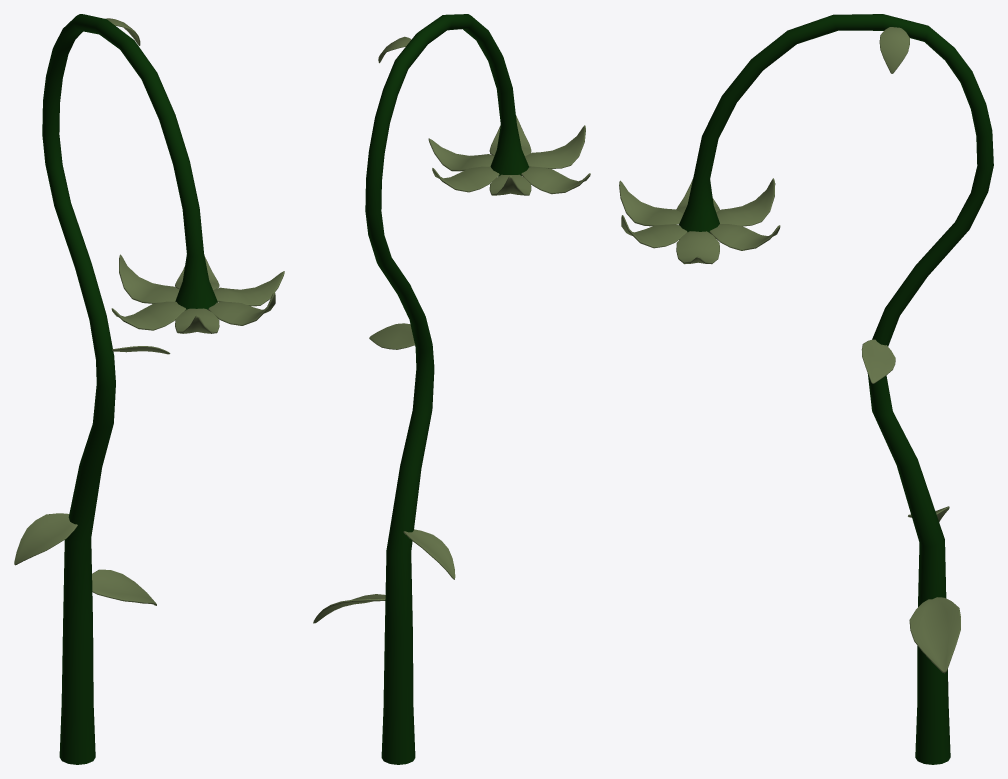
File: ModularFlower_TigeLuminescent00.fbx
The picture shows the model from 3 angles, left to right: view 1: azimuth 30°, elevation 25°; view 2: azimuth 150°, elevation 25°; view 3: azimuth 270°, elevation 25°; orthographic projection. The views are drawn at different scales.
Parts seen in each view (by area): view 1: polySurface6; view 2: polySurface6; view 3: polySurface6.
Part boxes in pixels (left/top/right/bottom): polySurface6: left=14, top=14, right=284, bottom=764; polySurface6: left=313, top=14, right=590, bottom=764; polySurface6: left=619, top=14, right=993, bottom=764.
Size of the model in its own units: 297 by 1244 by 569.
